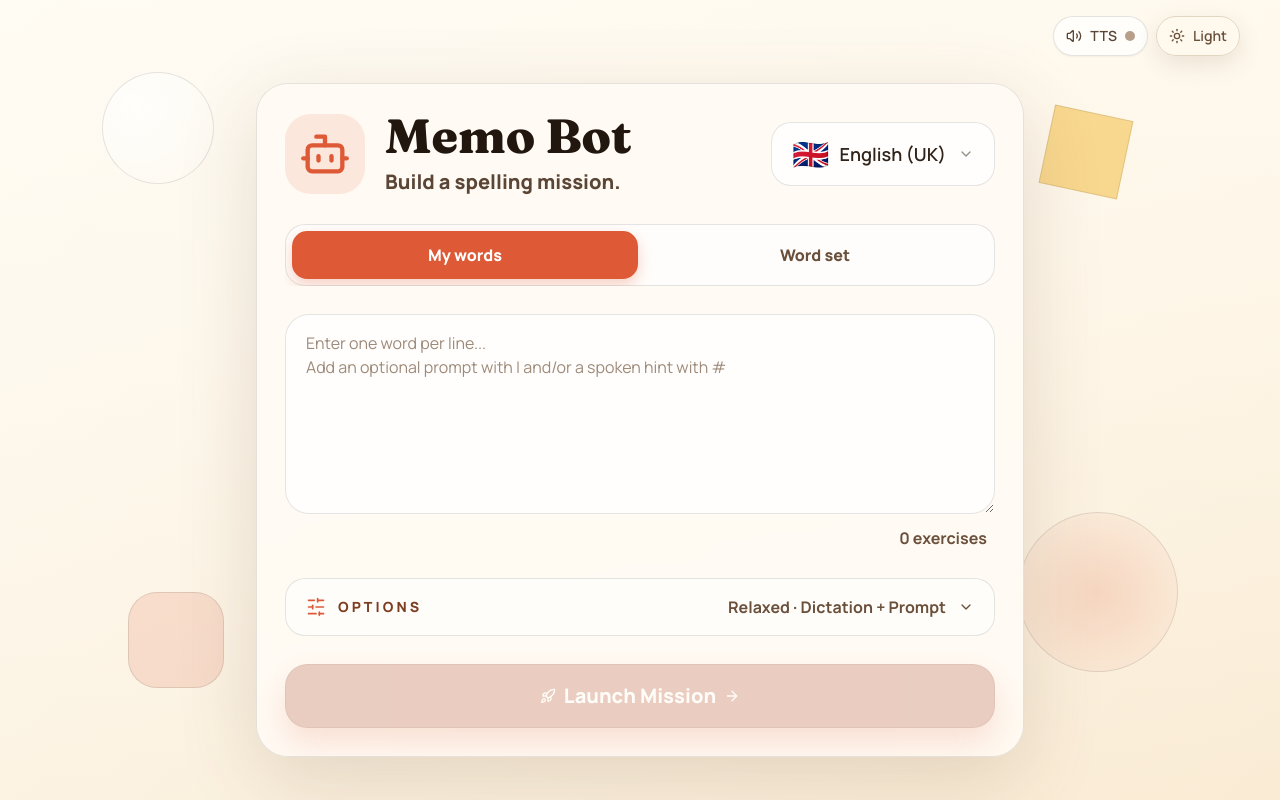
Test: InputScreen › unmounts manual controls when the word-set source is selected
Expected: the text box with placeholder "Enter one word per line" is shown, [285,314,995,514]
Click the radio button labelled "Word set".
click(815, 255)  # box [642,231,988,279]
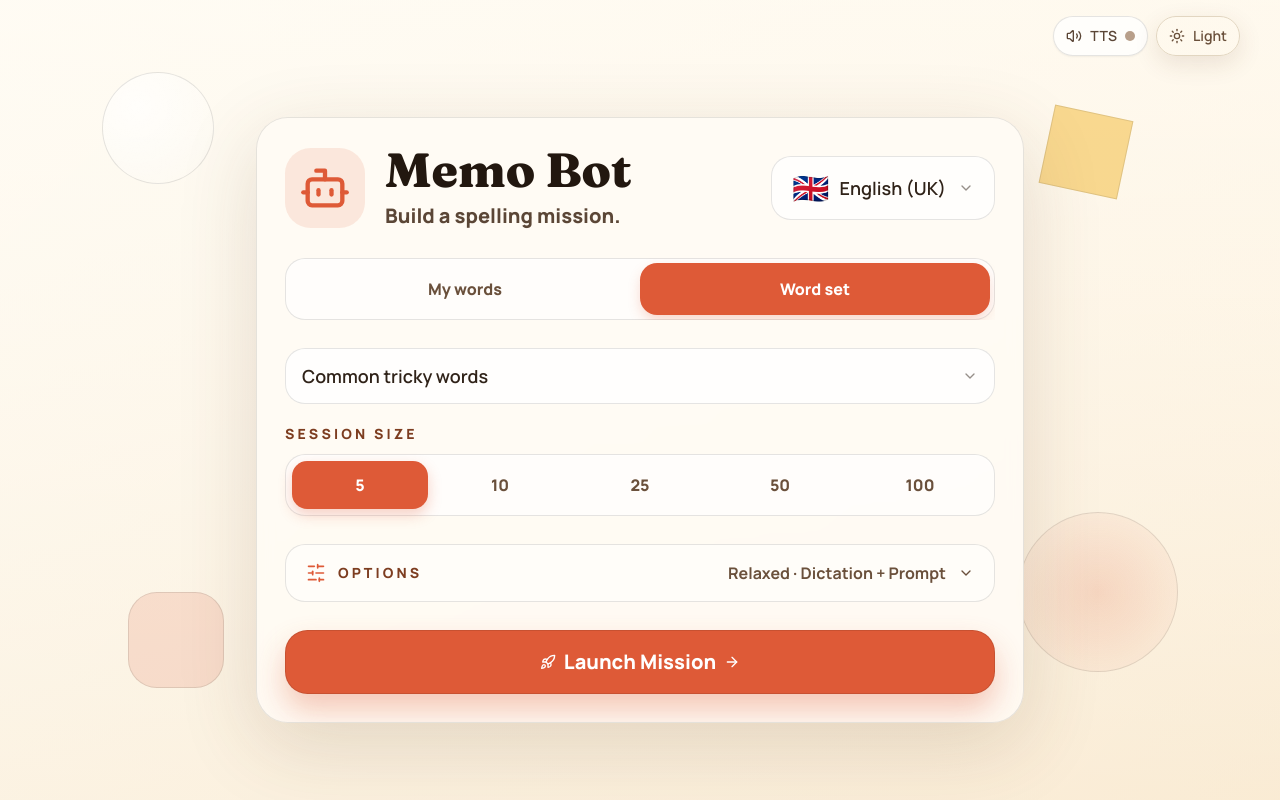
Expected: the field with placeholder "Enter one word per line" is not shown
Expected: the element named "Session size" is shown, [285,454,995,516]
